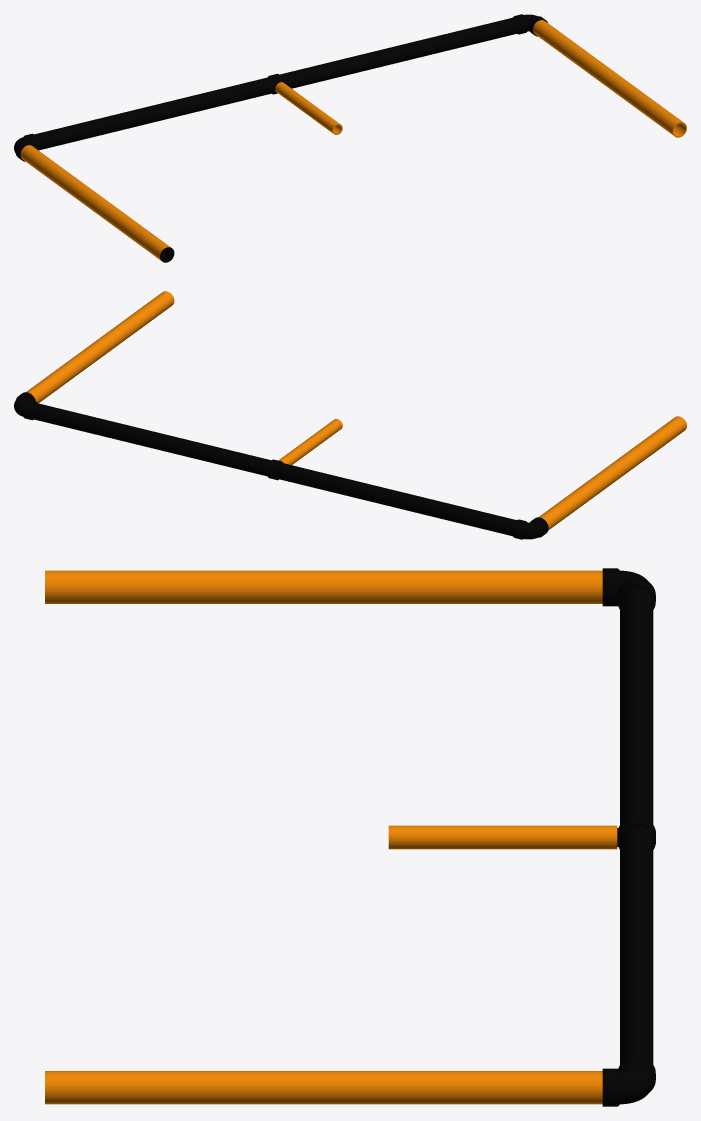
Rendered from gate.dae.
The picture shows the model from 3 angles, top to bottom: view 1: azimuth 30°, elevation 25°; view 2: azimuth 150°, elevation 25°; view 3: azimuth 270°, elevation 25°; orthographic projection. The views are drawn at different scales.
Visible parts, largest first — view 1: GATE; view 2: GATE; view 3: GATE.
Boxes of the visible parts, <box> form: GATE: <box>14,14,686,262</box>; GATE: <box>14,291,686,539</box>; GATE: <box>45,568,655,1106</box>.
Size of the model in its own units: 13.02 by 6.51 by 0.4112.
